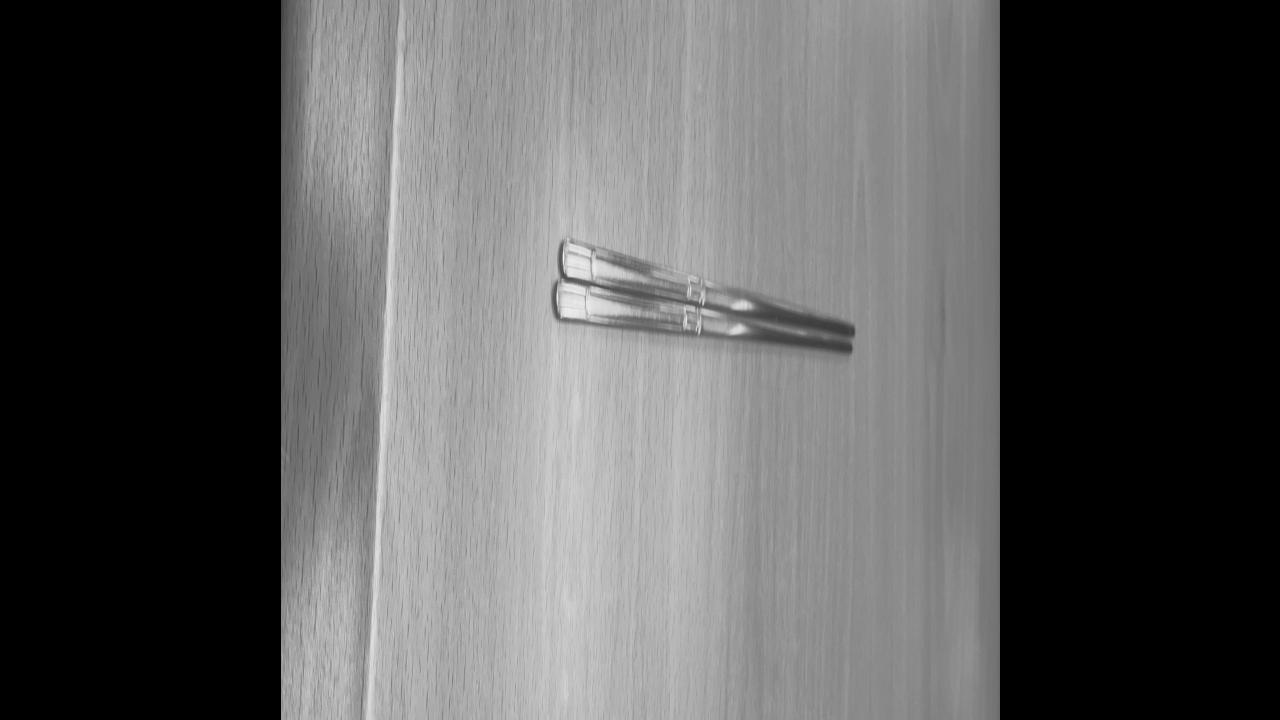chopstick: (554, 241, 852, 366)
